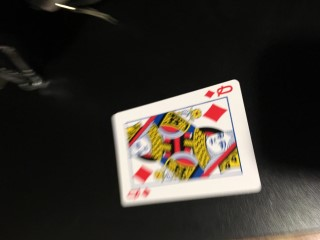QueenOfDiamonds: (112, 78, 261, 208)
